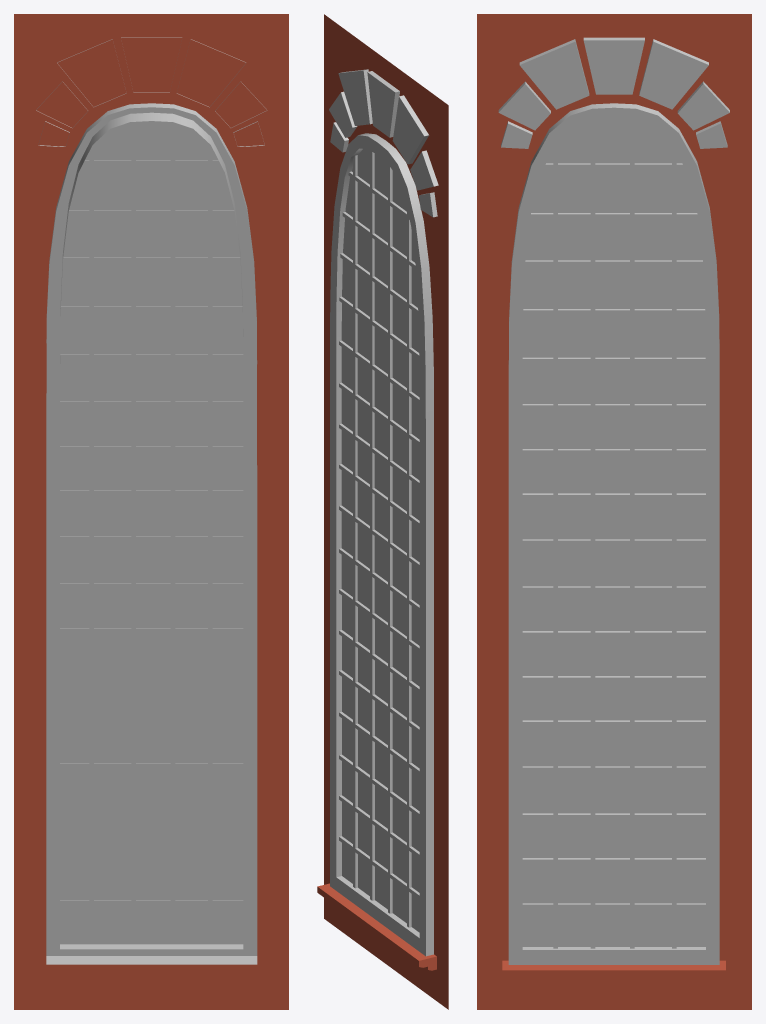
File: BigWindow.fbx
3 views of the same model, side by side, from view 1: azimuth 90°, elevation 25°; view 2: azimuth 210°, elevation 25°; view 3: azimuth 270°, elevation 25° (orthographic). The views are drawn at different scales.
Parts seen in each view (by area): view 1: Plane.003, Plane.074, Cube.016, Cube.014, Plane.075, Plane.080, Plane.081; view 2: Plane.003, Cube.014, Cube.016, Plane.074, Plane.075, Plane.080, Plane.081, Cube.001, Cube.007, Cube.006, Cube.013, Cube.009 (+3 smaller); view 3: Plane.003, Cube.016, Plane.074, Cube.014, Plane.075, Plane.080, Plane.081, Cube.001, Cube.013, Cube.006, Cube.007, Cube.009 (+3 smaller).
Boxes of the visible parts, x1,y1,x2,y2 form: Plane.003: (60,121,243,944); Plane.074: (14,14,288,262); Cube.016: (60,122,243,944); Cube.014: (46,103,257,964); Plane.075: (14,761,288,1009); Plane.080: (14,263,288,511); Plane.081: (14,512,288,760); Plane.003: (341,149,419,932); Cube.014: (330,133,433,956); Cube.016: (339,150,419,927); Plane.074: (324,14,448,330); Plane.075: (324,693,448,1009); Plane.080: (324,240,448,557); Plane.081: (324,466,448,783); Cube.001: (317,883,436,970); Cube.007: (392,95,428,164); Cube.006: (367,71,399,137); Cube.013: (338,69,372,125); Cube.009: (410,150,438,190); Plane.003: (522,121,705,946); Cube.016: (522,122,705,948); Plane.074: (477,14,751,262); Cube.014: (508,103,719,964); Plane.075: (477,761,751,1009); Plane.080: (477,263,751,511); Plane.081: (477,512,751,760); Cube.001: (502,960,725,977); Cube.013: (519,39,589,109); Cube.006: (583,37,644,94); Cube.007: (639,39,708,109); Cube.009: (677,81,729,130).
Bounding box in the file's own units: 13.91 × 472 × 118.
